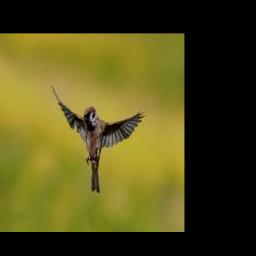Sparrow: (53, 85, 146, 193)
